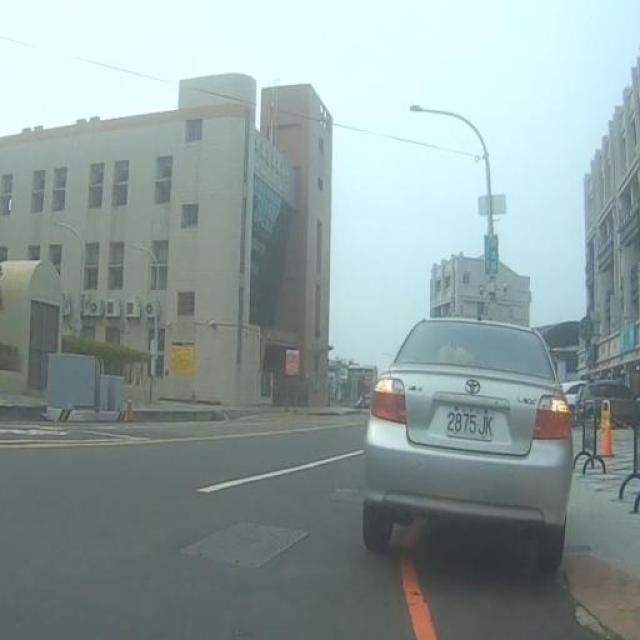illegalparking: (362, 242, 612, 640)
